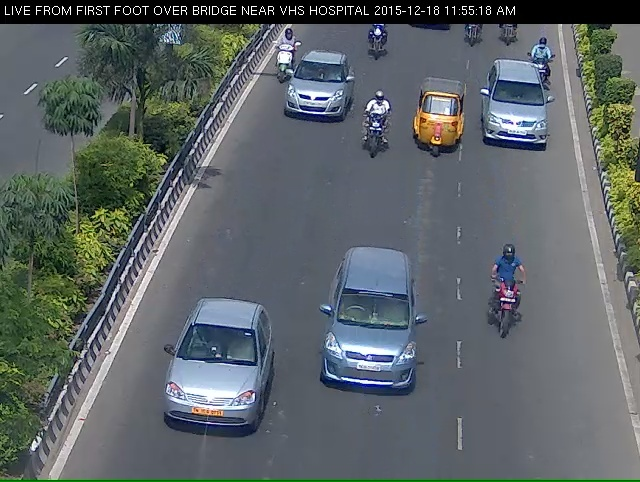Auto: (409, 78, 467, 175)
Car: (321, 259, 420, 429), (161, 312, 266, 461), (478, 66, 544, 180), (285, 55, 349, 133), (259, 32, 291, 91)
Person: (479, 257, 542, 376), (351, 89, 389, 173), (527, 38, 557, 94), (359, 19, 391, 67), (452, 14, 484, 58), (490, 15, 523, 54)
